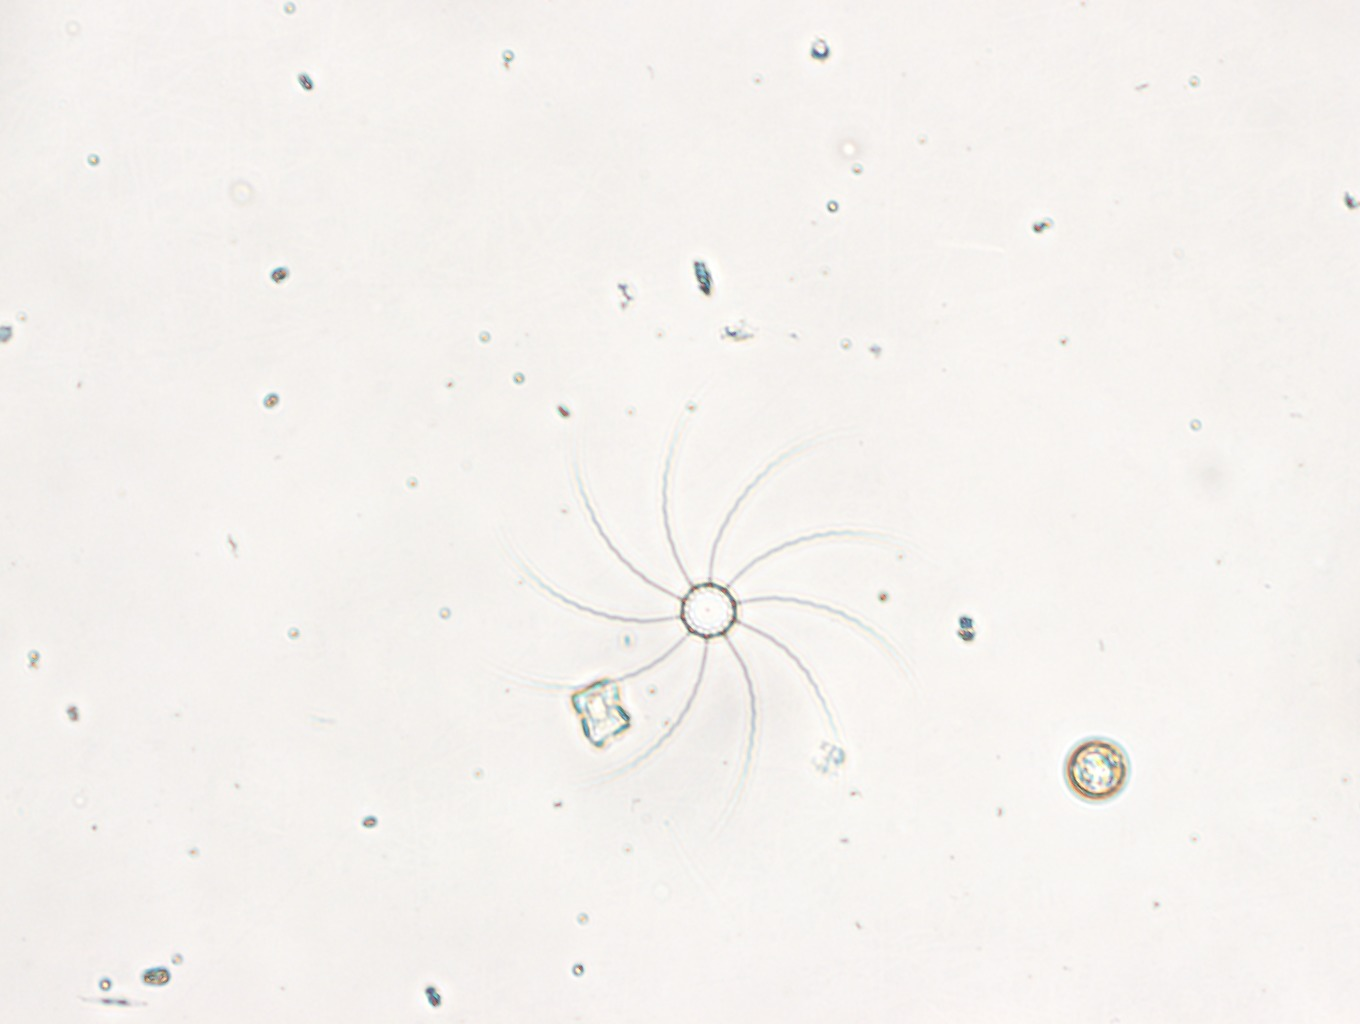bacteriastrum: (513, 413, 905, 800)
